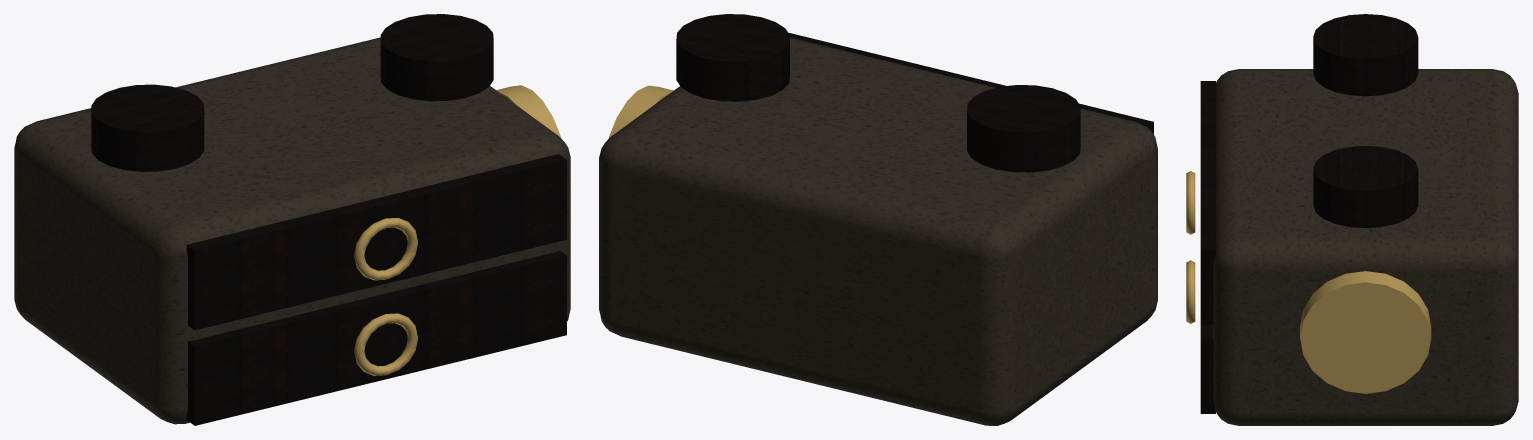
3 views of the same model, side by side, from view 1: azimuth 30°, elevation 25°; view 2: azimuth 150°, elevation 25°; view 3: azimuth 270°, elevation 25° (orthographic). The views are drawn at different scales.
Parts seen in each view (by area): view 1: b-reader; view 2: b-reader; view 3: b-reader.
Boxes of the visible parts, left/top/right/bottom form: b-reader: left=14, top=14, right=570, bottom=425; b-reader: left=599, top=14, right=1157, bottom=425; b-reader: left=1186, top=14, right=1518, bottom=425.
Bounding box in the file's own units: 0.55 × 0.3 × 0.38.
4 materials, 3 textured.
